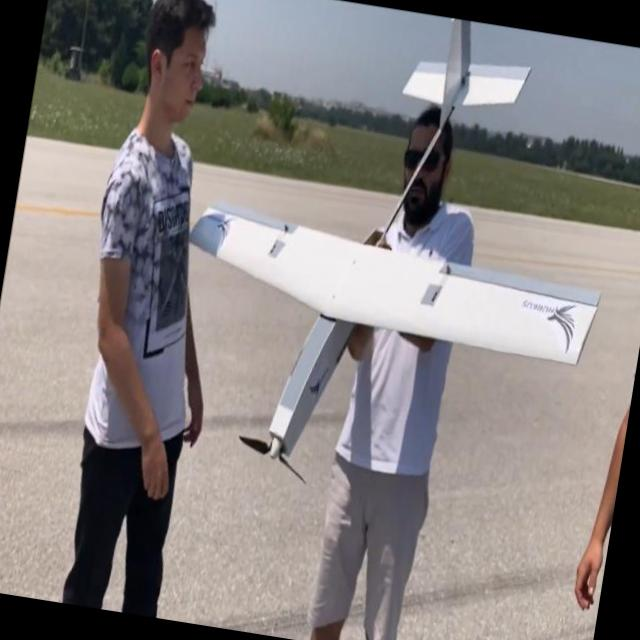UAV: (134, 6, 618, 495)
